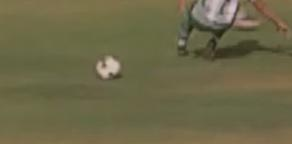ball: (92, 48, 126, 85)
